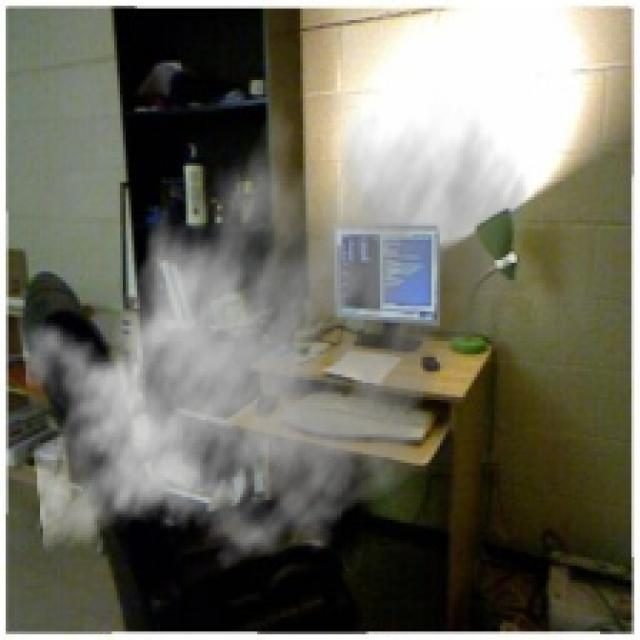Smoke: (19, 69, 534, 586)
